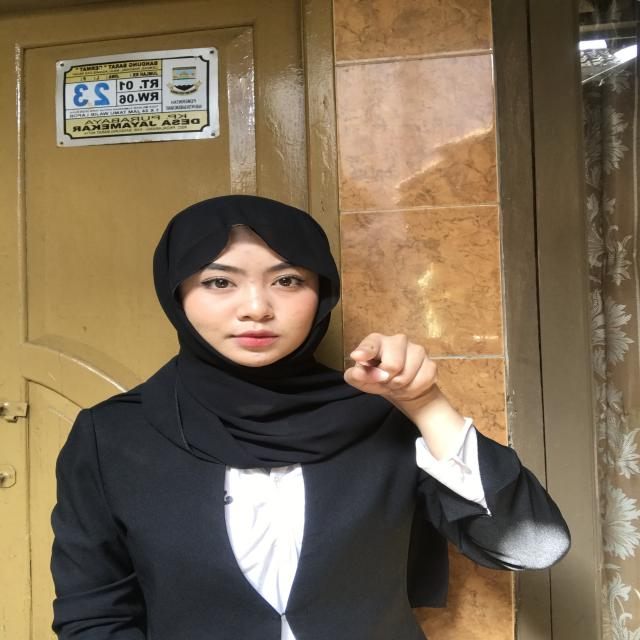kamu: (306, 303, 494, 442)
